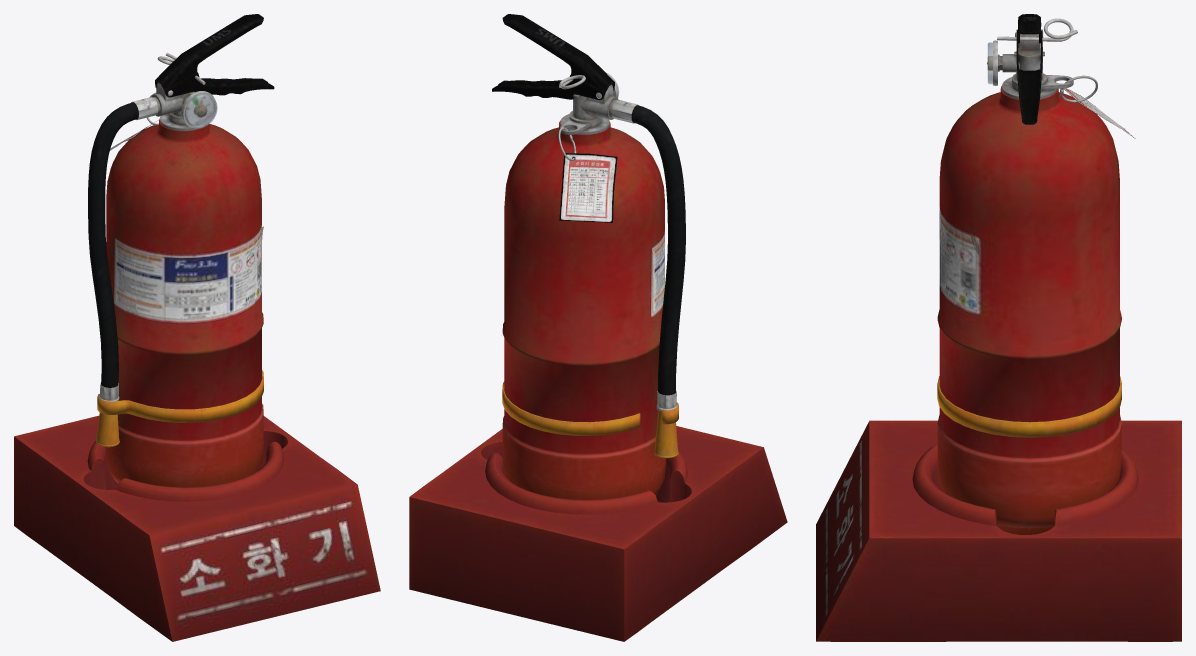
File: korean_fire_extinguisher_01-79e1e9ff.glb
The picture shows the model from 3 angles, left to right: view 1: azimuth 30°, elevation 25°; view 2: azimuth 150°, elevation 25°; view 3: azimuth 270°, elevation 25°; orthographic projection. The views are drawn at different scales.
Visible parts, largest first — view 1: korean_fire_extinguisher_01; view 2: korean_fire_extinguisher_01; view 3: korean_fire_extinguisher_01.
Part boxes in pixels (x1,y1,x2,y2): korean_fire_extinguisher_01: [14, 14, 380, 641]; korean_fire_extinguisher_01: [409, 14, 787, 641]; korean_fire_extinguisher_01: [816, 14, 1181, 641].
Size of the model in its own units: 0.28 by 0.6593 by 0.3674.
3 materials, 3 textured.
